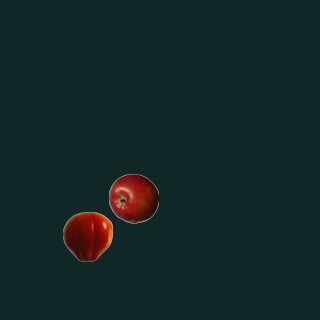Apple Braeburn: (108, 173, 158, 223)
Tomato 1: (62, 211, 112, 261)
